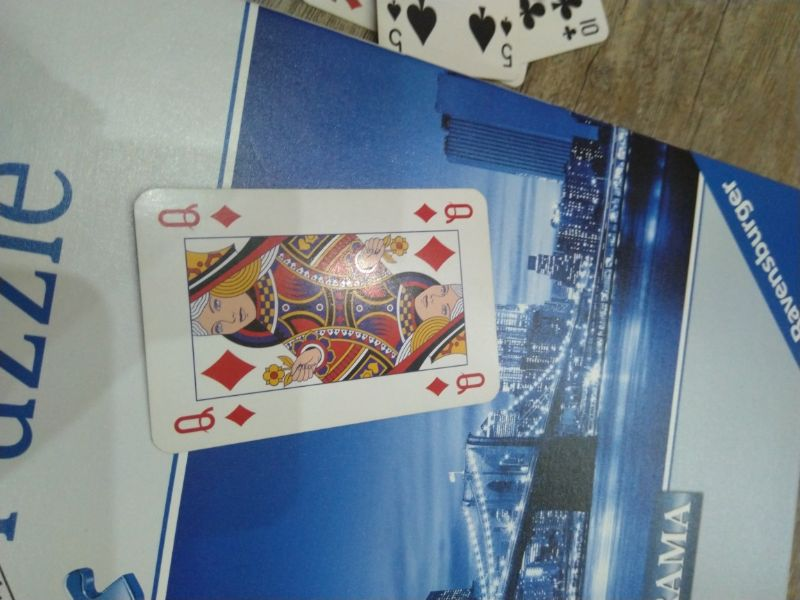Qd: (170, 398, 258, 440), (157, 199, 245, 235), (424, 368, 487, 398), (411, 198, 478, 226)
